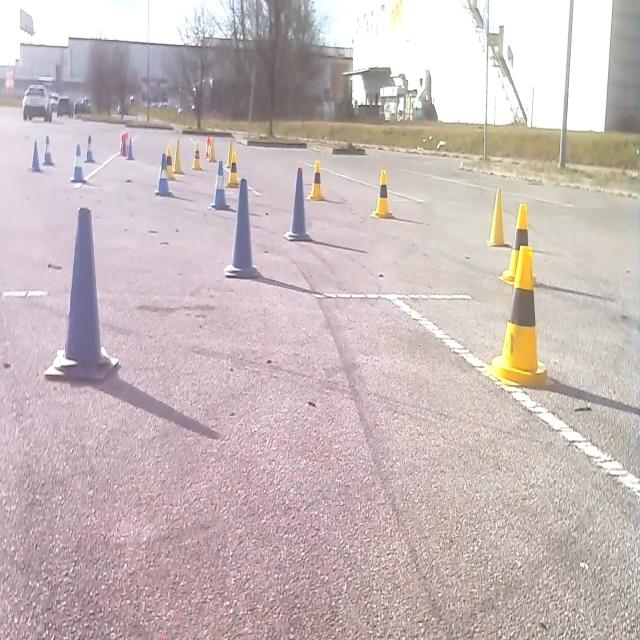blue_cone: (43, 204, 120, 384), (224, 176, 260, 279), (283, 164, 312, 242), (211, 161, 229, 211), (154, 151, 172, 196), (70, 142, 86, 182), (30, 138, 42, 172), (42, 133, 54, 166), (84, 133, 95, 163), (126, 137, 134, 161)
orange_cone: (203, 136, 212, 162)
yellow_cone: (489, 243, 548, 388), (499, 202, 530, 284), (485, 184, 511, 249), (370, 167, 394, 219), (306, 158, 326, 201), (226, 150, 240, 188), (173, 137, 184, 174), (164, 144, 174, 178), (192, 140, 202, 171), (225, 140, 235, 168), (209, 139, 216, 163)
